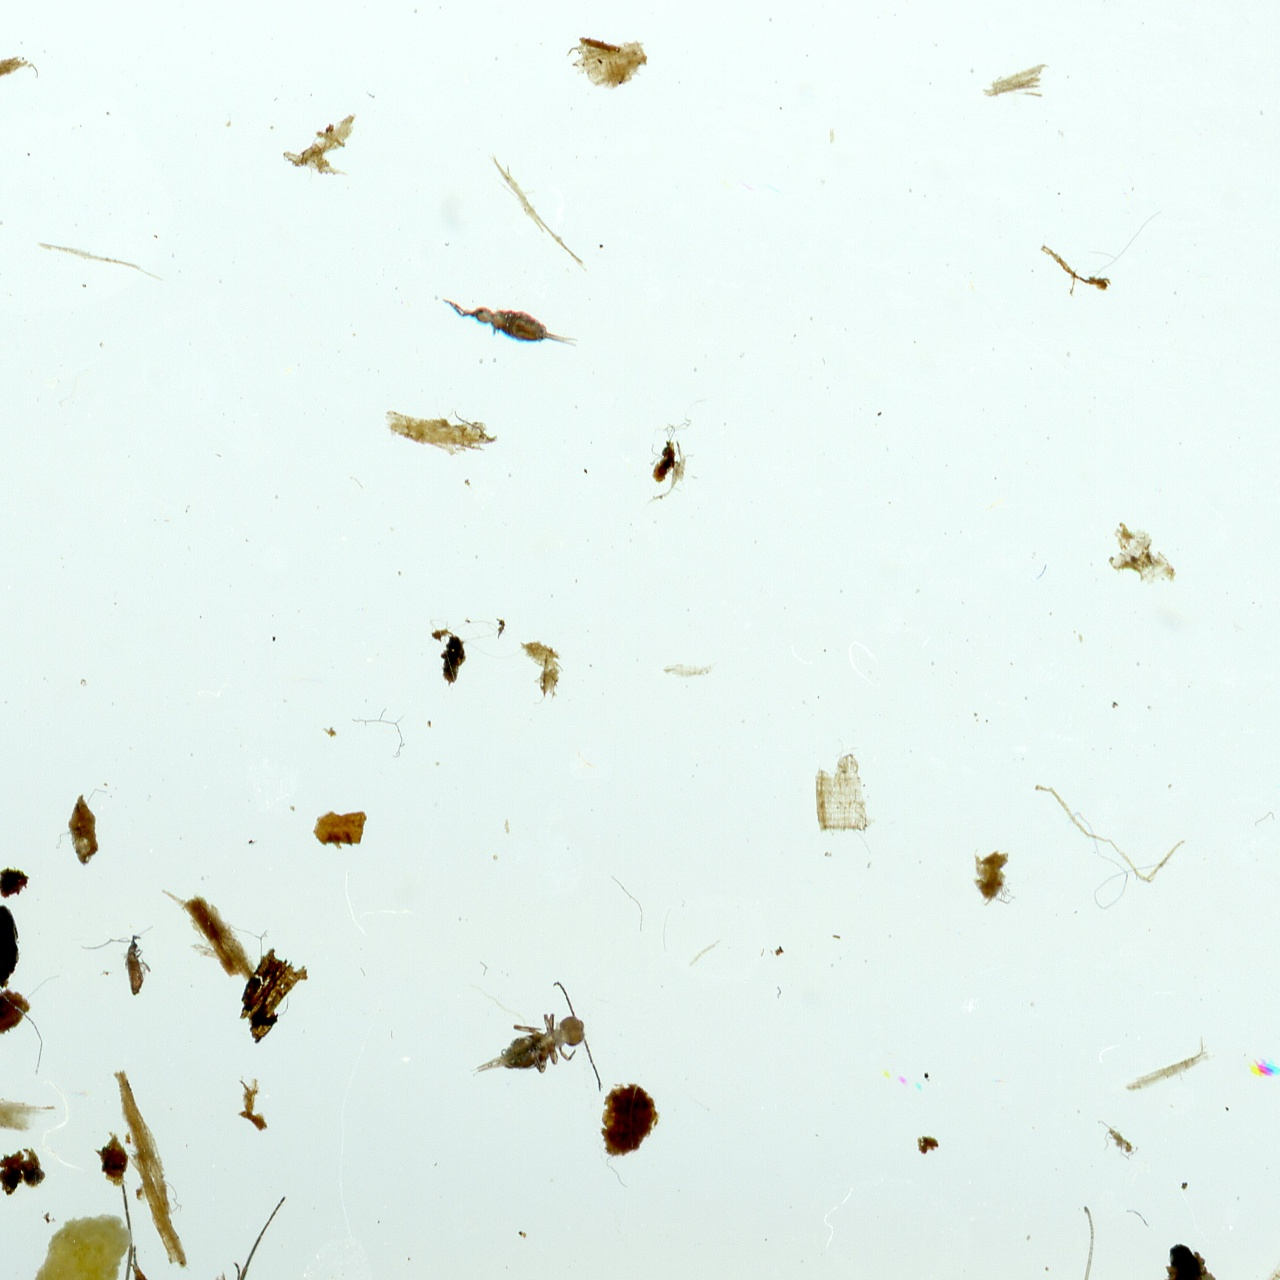arthropod: (443, 972, 613, 1137), (115, 1177, 290, 1280), (431, 287, 588, 362), (121, 931, 155, 1000)
